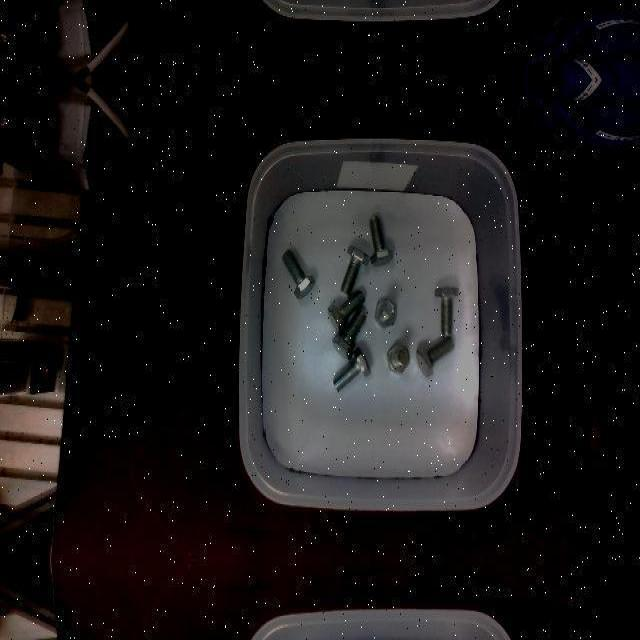screw: (332, 345, 370, 391), (332, 310, 366, 360), (281, 249, 315, 299), (327, 289, 365, 333), (416, 337, 455, 379), (340, 245, 369, 295), (369, 215, 394, 265), (434, 287, 458, 337), (387, 343, 410, 373), (374, 297, 397, 327)
